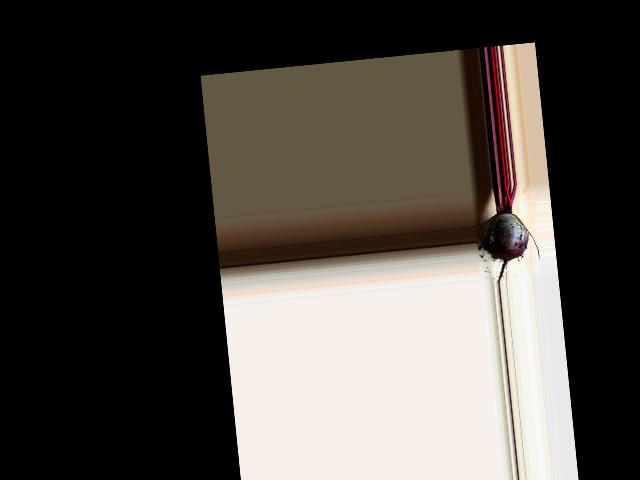beet: (476, 183, 541, 283)
